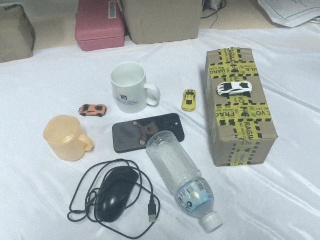bottle: (142, 127, 227, 235)
box: (203, 45, 278, 168), (120, 1, 203, 46), (74, 1, 125, 51), (1, 3, 35, 64)
cup: (110, 60, 162, 115), (42, 113, 95, 162)
mouse: (92, 164, 140, 225)
phone: (112, 112, 185, 153)
toy_car: (213, 79, 254, 95), (78, 103, 107, 118), (181, 89, 197, 112)
